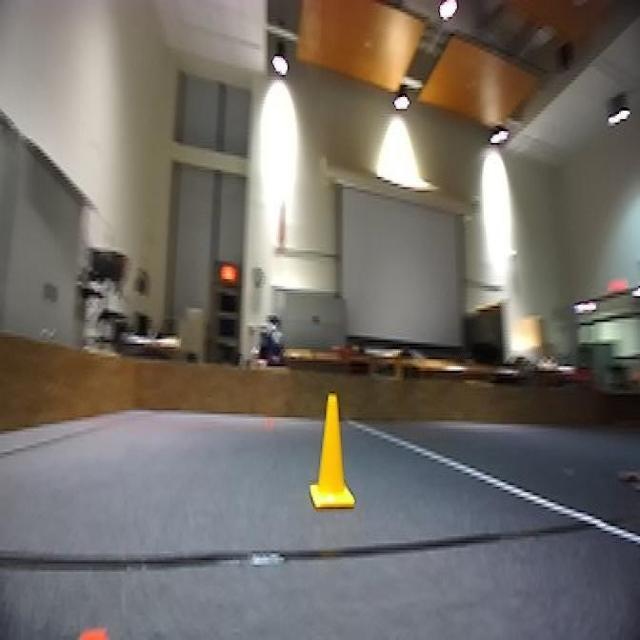frc_cone: (311, 393, 358, 514)
